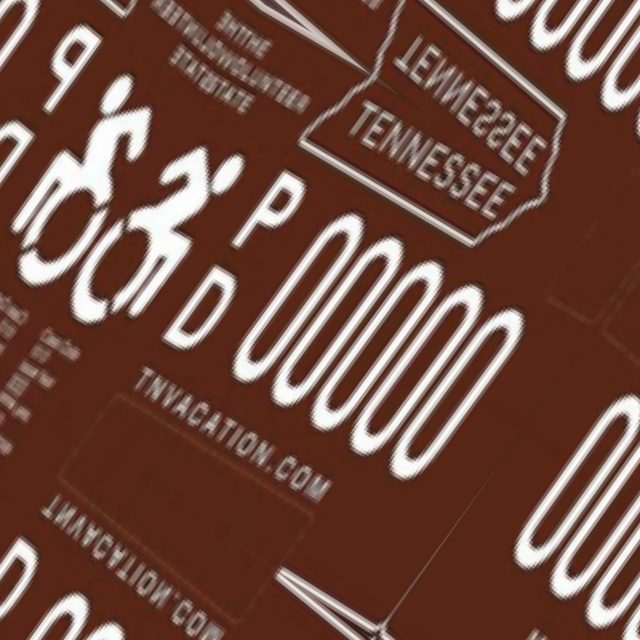ISA: (51, 109, 257, 351), (0, 60, 189, 302), (0, 443, 17, 640)
